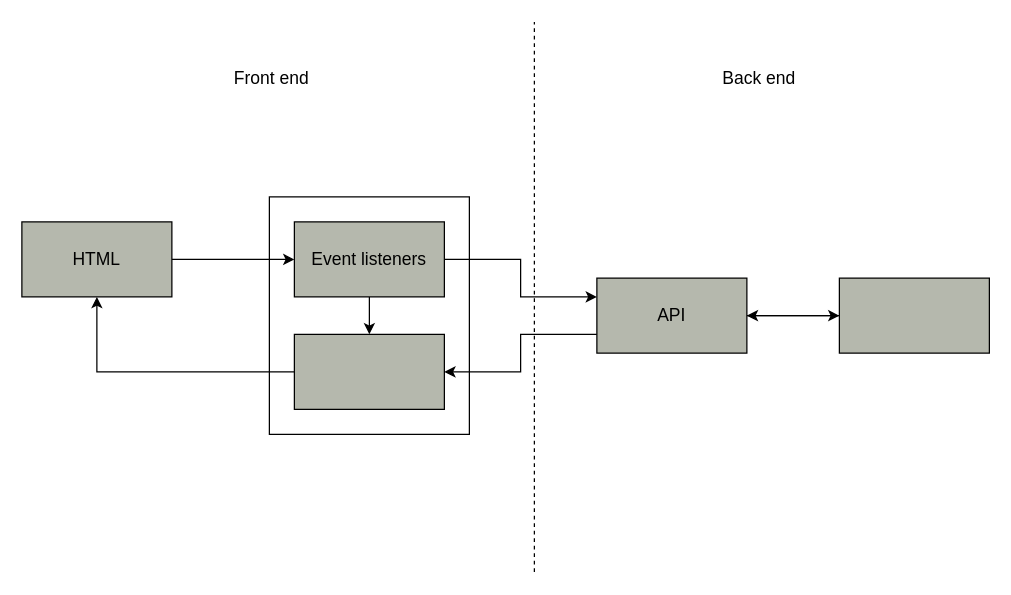
The diagram is 1011 pixels wide and 595 high, and some of its shapes have lost their labels. The shapes that lost their labels are listed below. From the top down, each one's centre as x and y in pixels, then its label:
At point 913,315: "Data Base".
At point 368,371: "UI Helper".
